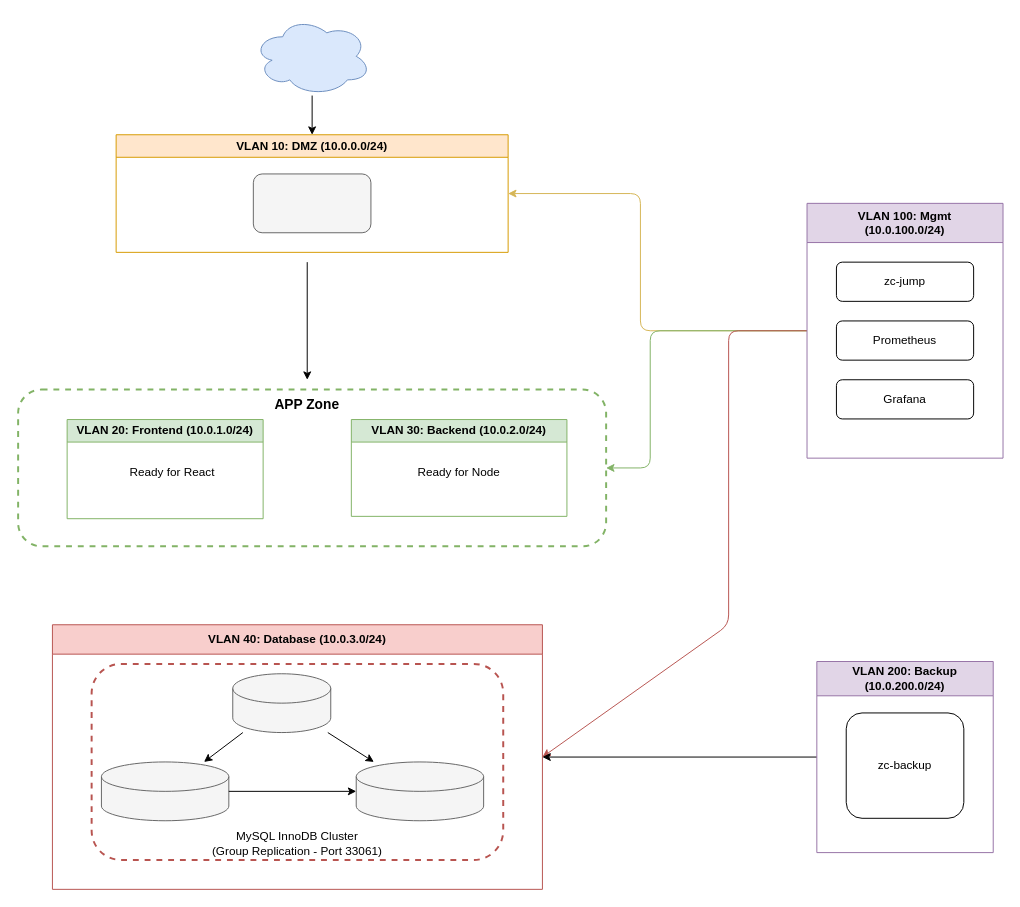
Image size: 1020x907. Some labels were removed from this diagram. The shapes that lost their labels are listed below. From the top down, each one's centre as x and y in pixels, then its label:
At [311,56]: "Internet / Users".
At [311,203]: "zc-proxy-v10 (Nginx Port 80)".
At [281,703]: "zc-db-primary-v40 10.0.3.11".
At [164,791]: "zc-db-secondary1-v40 10.0.3.12".
At [419,791]: "zc-db-secondary2-v40 10.0.3.13".
